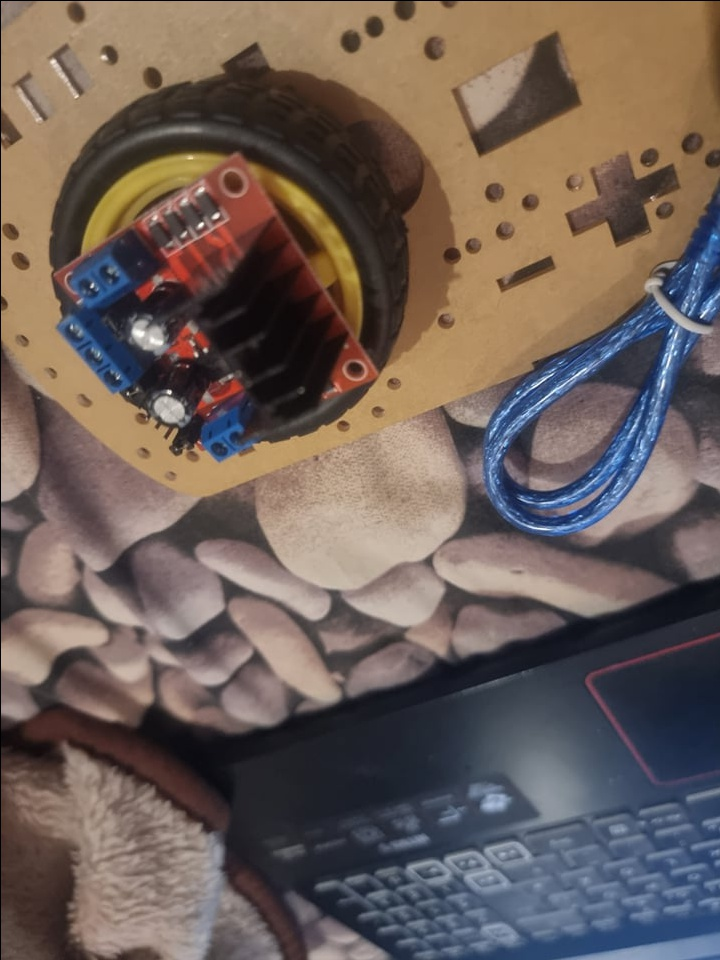MOTOR: (53, 146, 377, 457)
